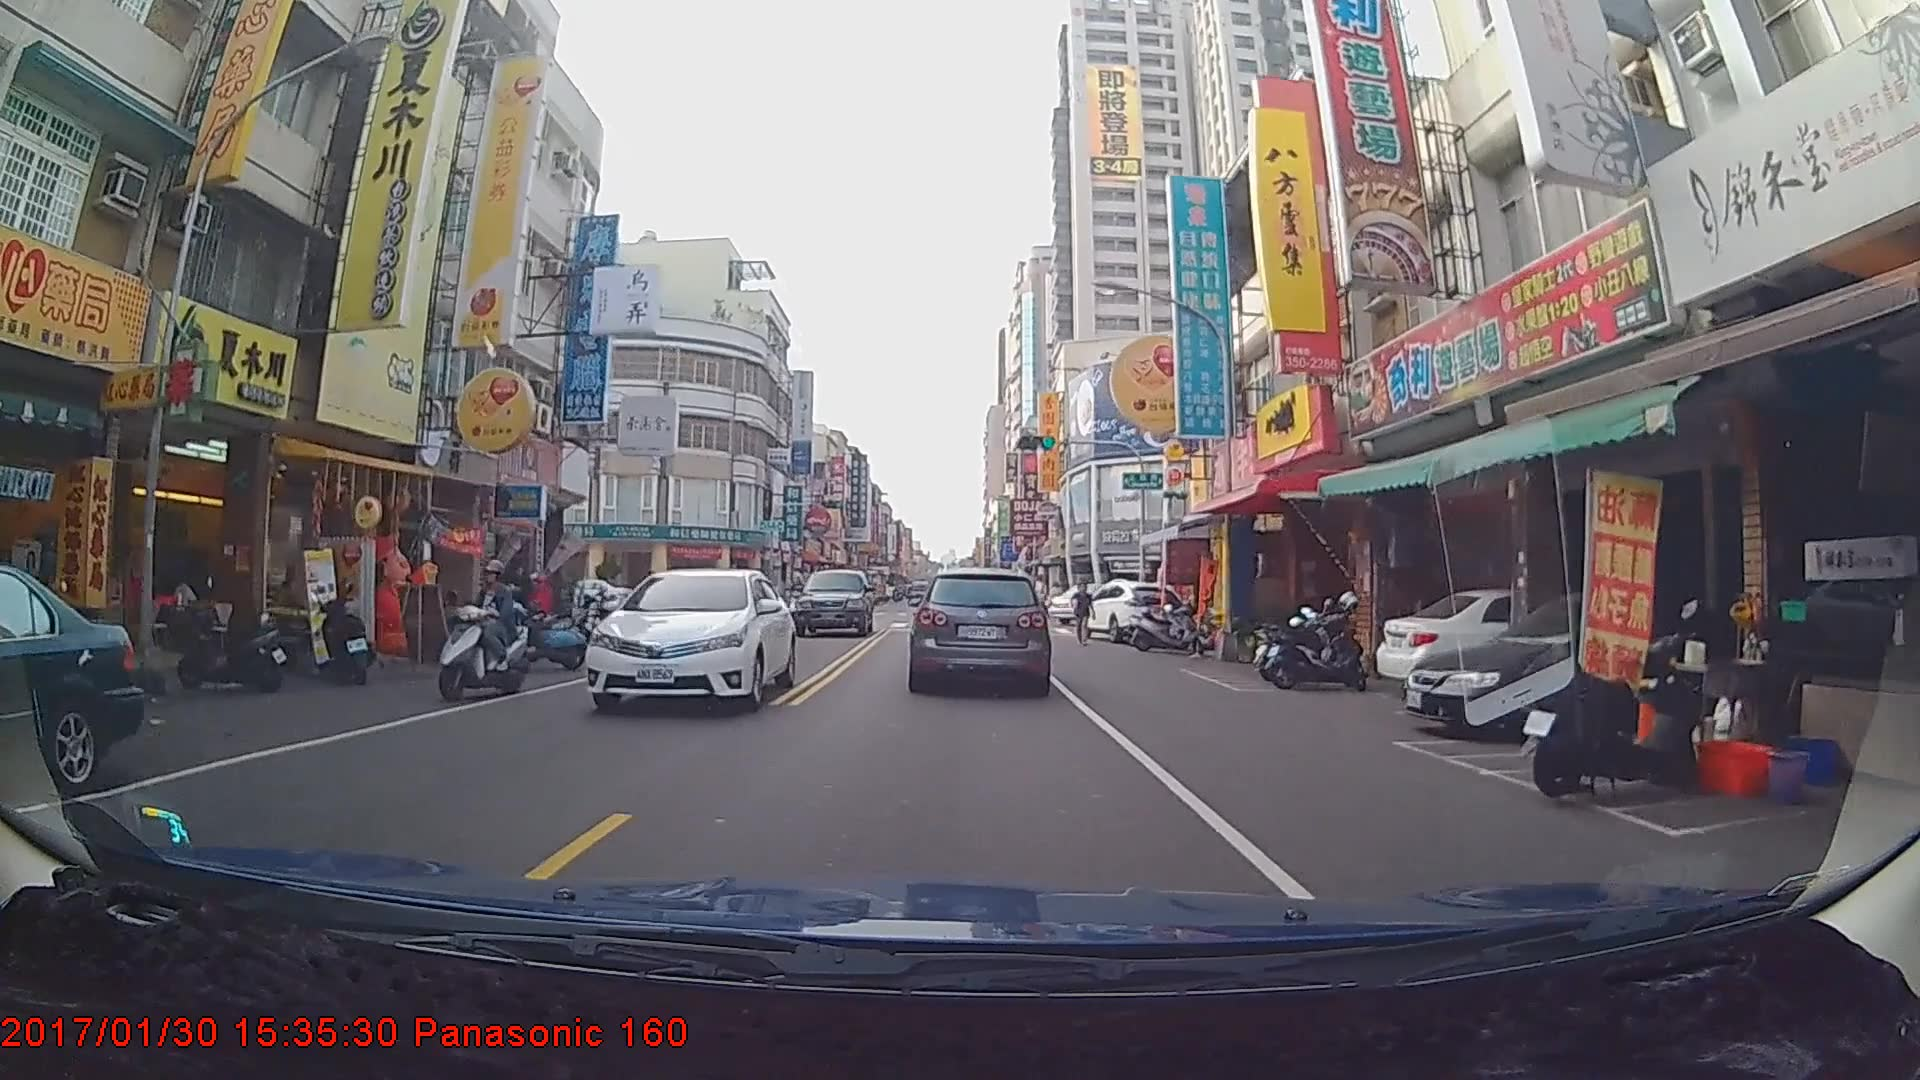pedestrian: (1072, 582, 1094, 647)
rider: (431, 561, 545, 707)
vehicle: (0, 559, 143, 795), (584, 565, 793, 717), (909, 567, 1049, 692), (1077, 576, 1188, 640), (791, 566, 874, 636), (906, 579, 931, 606)
